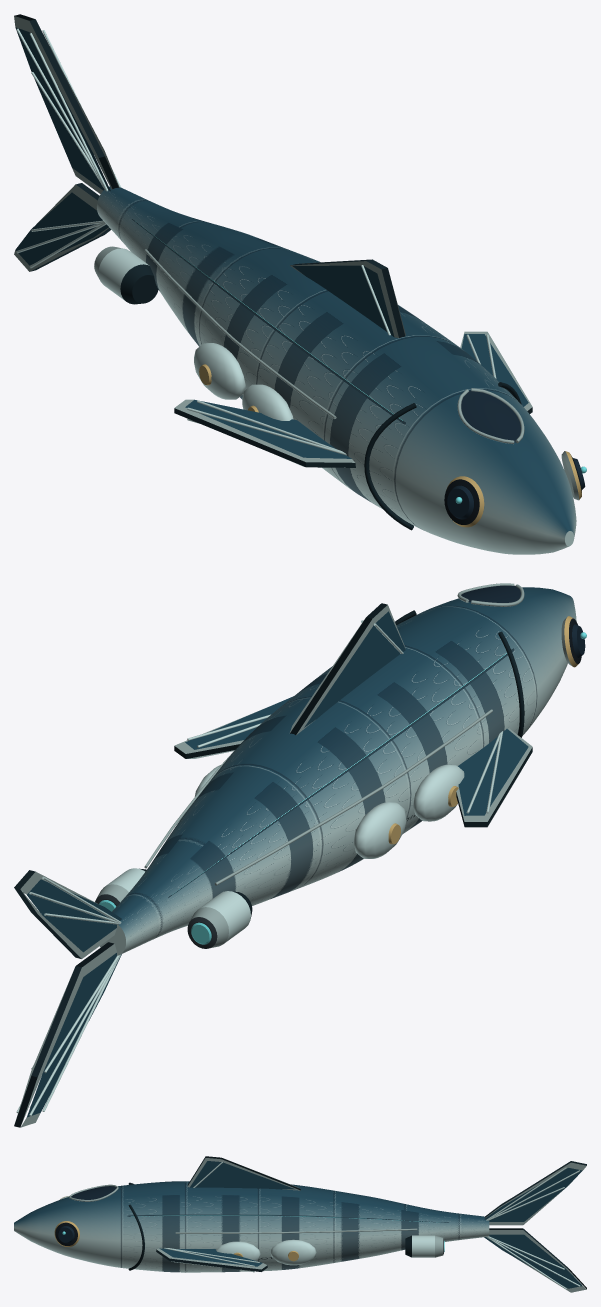
File: pilotfish.glb
The picture shows the model from 3 angles, top to bottom: view 1: azimuth 30°, elevation 25°; view 2: azimuth 150°, elevation 25°; view 3: azimuth 270°, elevation 25°; orthographic projection. The views are drawn at different scales.
Visible parts, largest first — view 1: pilotfish_hull; view 2: pilotfish_hull; view 3: pilotfish_hull.
Part boxes in pixels (left/top/right/bottom): pilotfish_hull: left=14, top=14, right=586, bottom=554; pilotfish_hull: left=14, top=583, right=586, bottom=1127; pilotfish_hull: left=14, top=1156, right=586, bottom=1292.
Size of the model in its own units: 5.24 by 4.16 by 16.
1 material, 1 textured.
